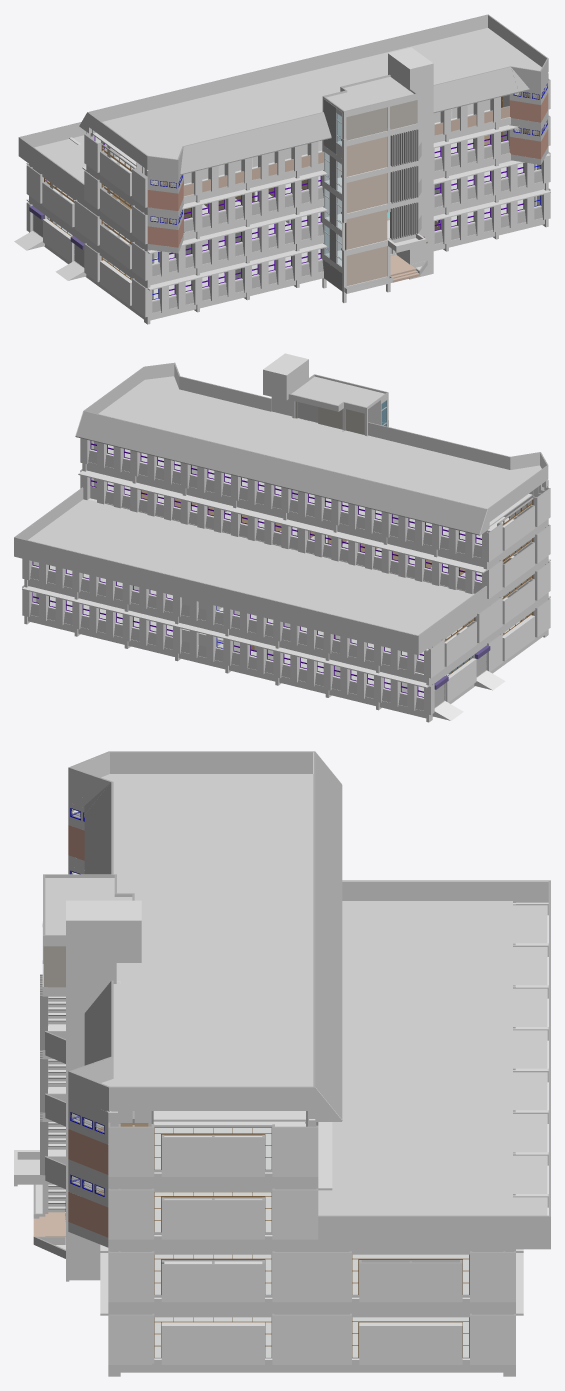
Rendered from en117-building.glb.
The picture shows the model from 3 angles, top to bottom: view 1: azimuth 30°, elevation 25°; view 2: azimuth 150°, elevation 25°; view 3: azimuth 270°, elevation 25°; orthographic projection. The views are drawn at different scales.
Parts seen in each view (by area): view 1: EN117RF, EN11703, EN11702, EN11701, EN11704; view 2: EN11703, EN117RF, EN11704, EN11702, EN11701; view 3: EN117RF, EN11703, EN11702, EN11701, EN11704.
Part boxes in pixels (left/top/right/bottom): EN117RF: left=79, top=14, right=548, bottom=180; EN11703: left=18, top=115, right=550, bottom=253; EN11702: left=26, top=152, right=550, bottom=290; EN11701: left=14, top=188, right=550, bottom=324; EN11704: left=82, top=79, right=550, bottom=216; EN11703: left=14, top=469, right=550, bottom=655; EN117RF: left=75, top=353, right=548, bottom=535; EN11704: left=78, top=400, right=550, bottom=573; EN11702: left=22, top=558, right=550, bottom=688; EN11701: left=22, top=585, right=550, bottom=722; EN117RF: left=42, top=751, right=342, bottom=1122; EN11703: left=40, top=865, right=550, bottom=1254; EN11702: left=14, top=1112, right=523, bottom=1317; EN11701: left=33, top=1184, right=515, bottom=1376; EN11704: left=40, top=802, right=332, bottom=1191.
Size of the model in its own units: 41.68 by 19.95 by 26.75.
